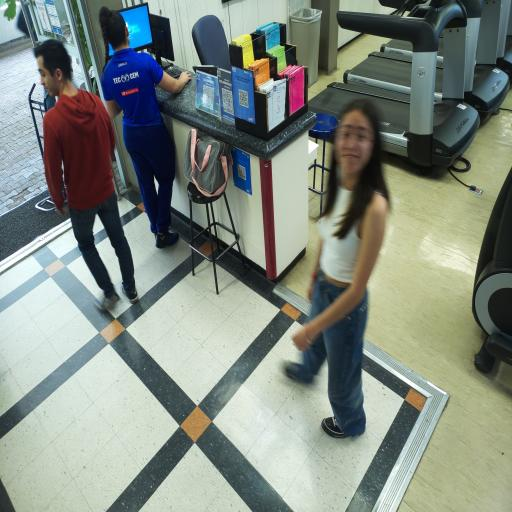person: (286, 100, 388, 437), (34, 40, 138, 309), (99, 7, 191, 248)
